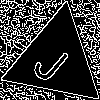J: (30, 35, 78, 86)
